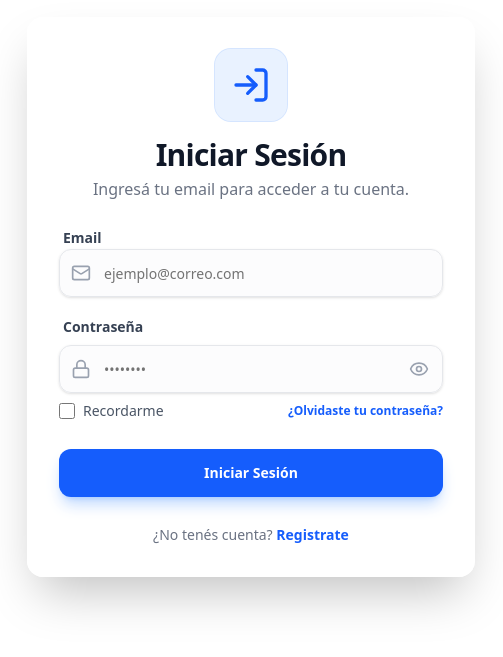
Test: Login Page › displays server error for unexpected errors
The width and height of the screenshot is (503, 657).
Type "test@test.com" into the field labelled "Email" at (251, 273), box [59, 249, 443, 297]
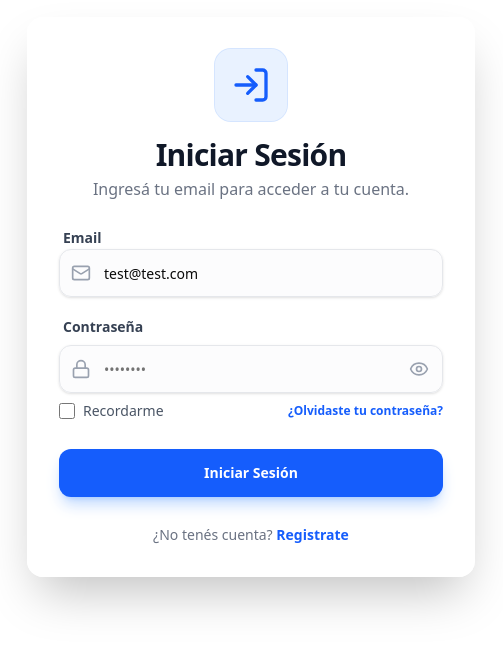
Type "password123" into the password field with placeholder "••••••••" at (251, 369), box [59, 345, 443, 393]
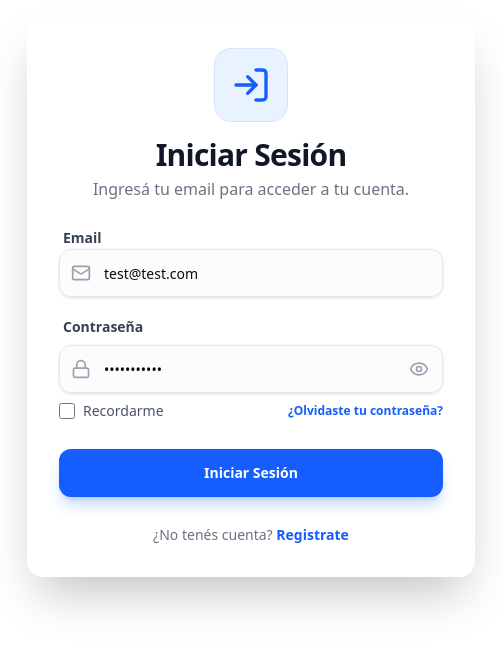
Click the button "Iniciar Sesión" at (251, 473), box [59, 449, 443, 497]
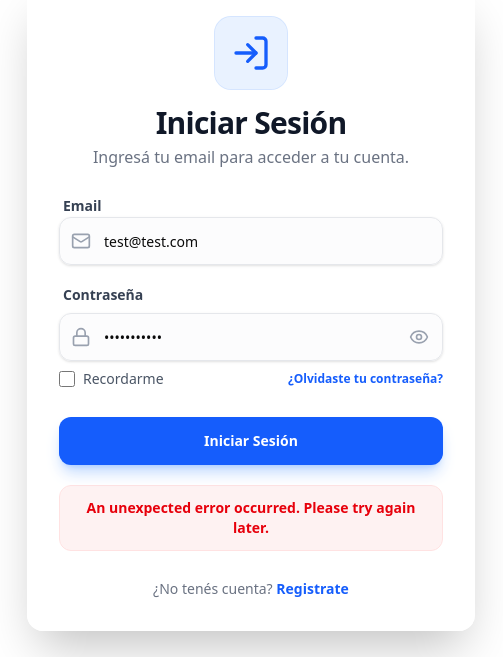
Expected: the text "An unexpected error occurred. Please try again later." is shown, [76, 498, 426, 538]
